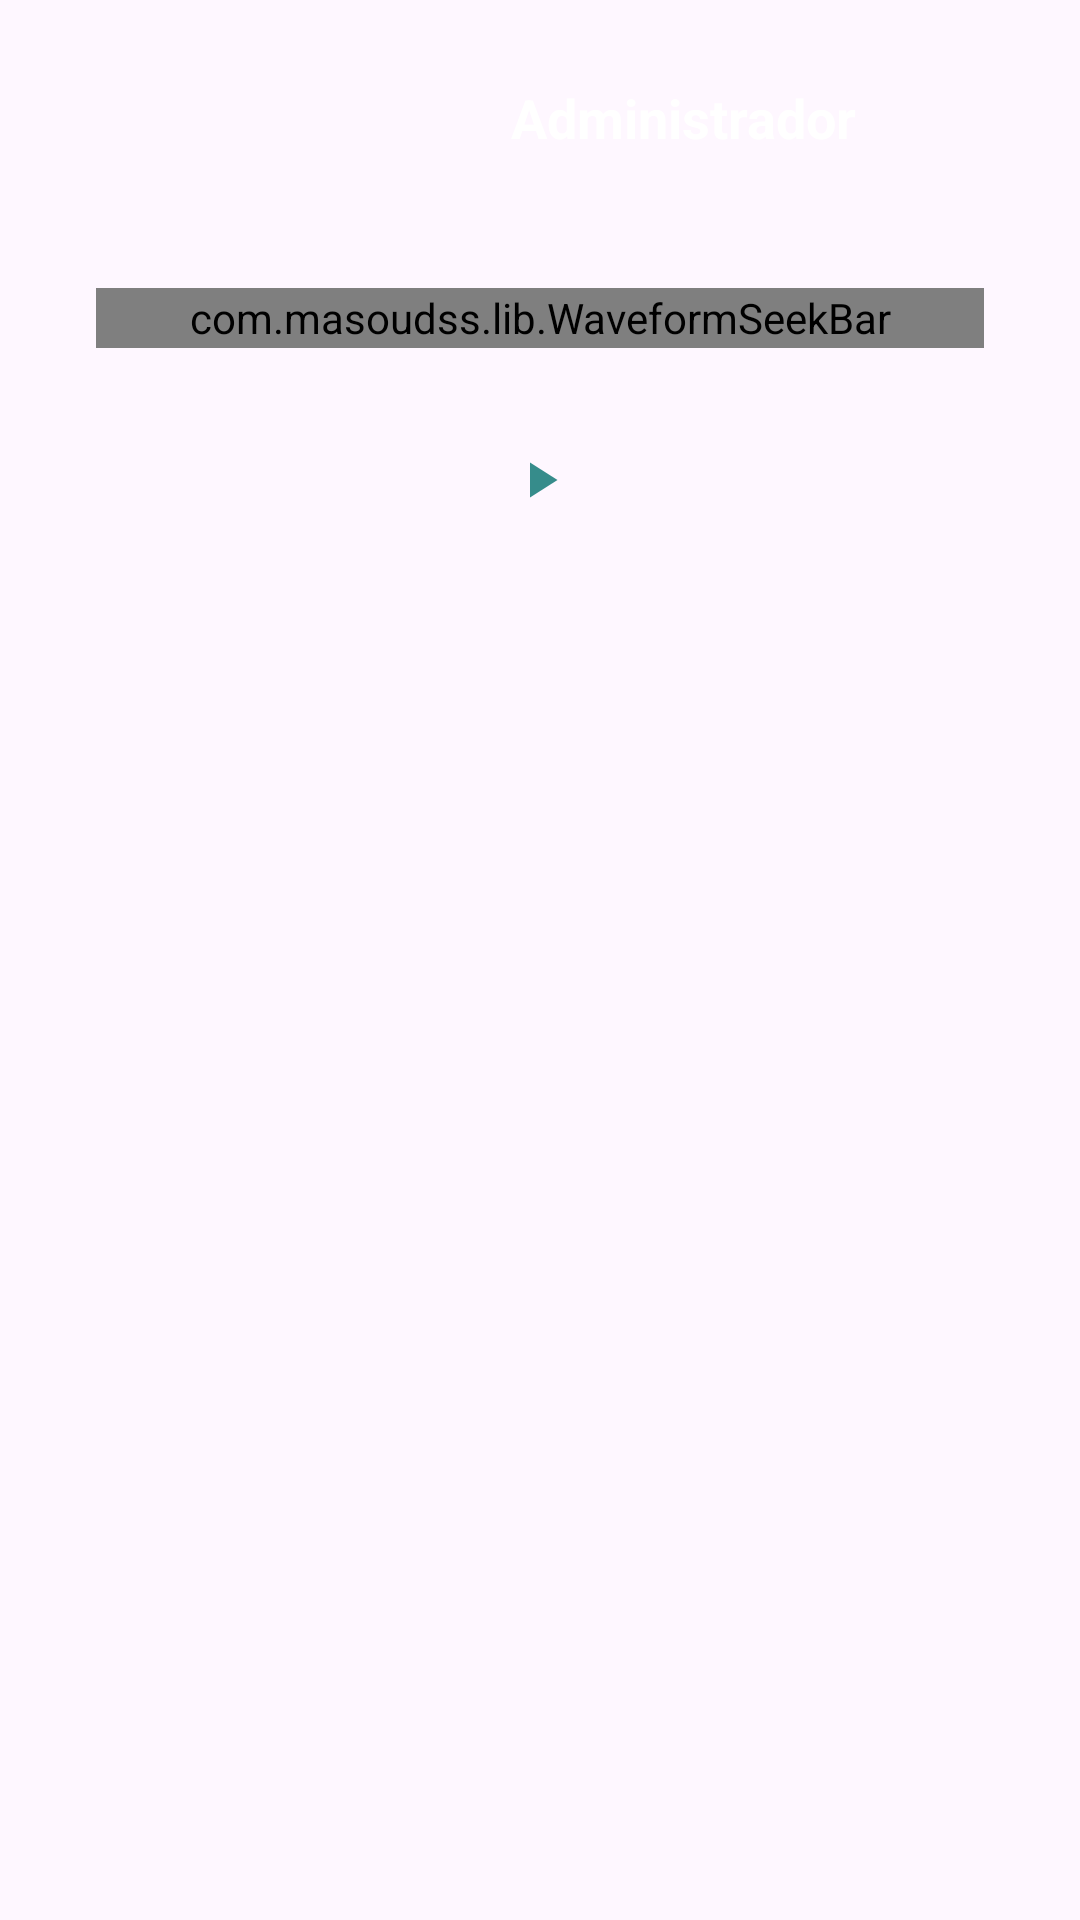

Screen size 1080w x 1920h. Icon name, then its box in pixels as (x1, y1, x2, y2):
play: (530, 462, 557, 498)
